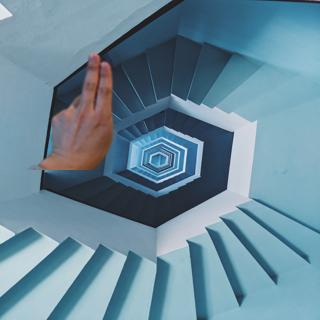DHAVE: (44, 48, 117, 163)
